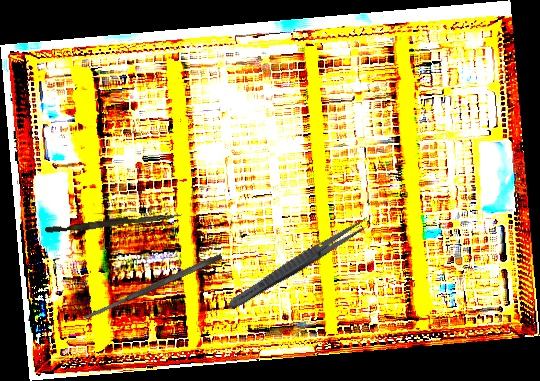Dressing Forceps: (223, 212, 373, 315)
Pusher: (45, 208, 182, 237)
Spatula Surgical: (82, 252, 224, 322)
